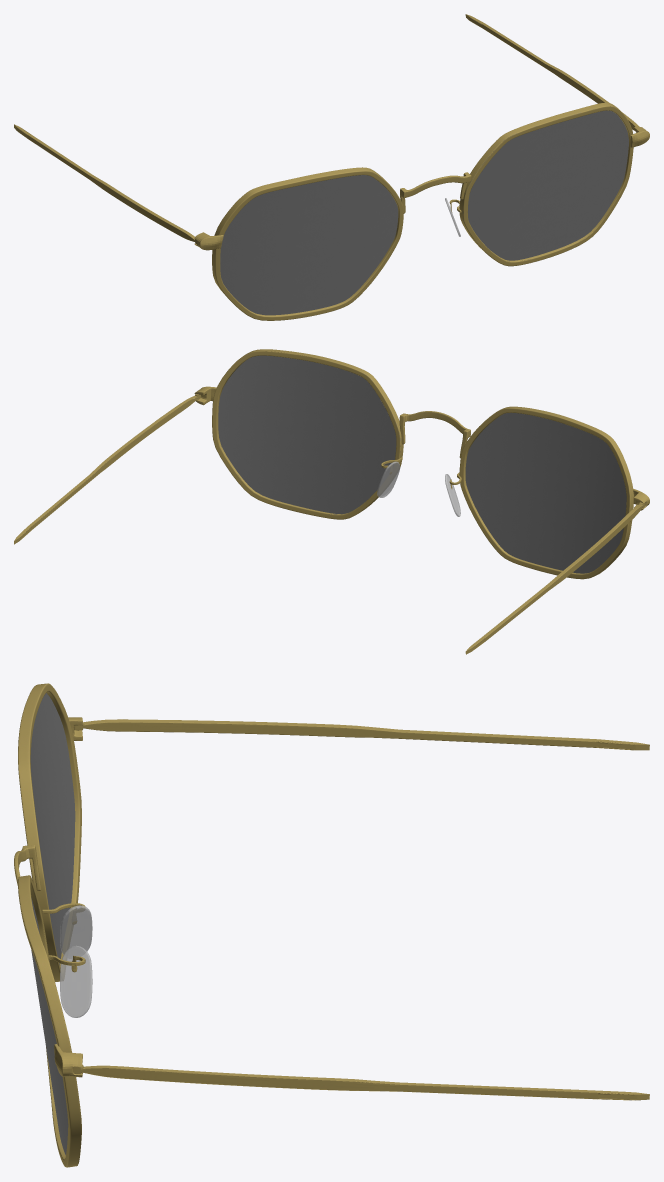
Rendered from OCTAGONAL_app.glb.
3 renders of one model, top to bottom at view 1: azimuth 30°, elevation 25°; view 2: azimuth 150°, elevation 25°; view 3: azimuth 270°, elevation 25°, orthographic. The views are drawn at different scales.
Visible parts, largest first — view 1: obj; view 2: obj; view 3: obj.
Part boxes in pixels (x1,y1,x2,y2): obj: [14, 14, 649, 320]; obj: [14, 349, 649, 654]; obj: [14, 683, 649, 1167].
Size of the model in its own units: 0.1512 by 0.0467 by 0.114.
Materials: 3 (2 with a texture image).
